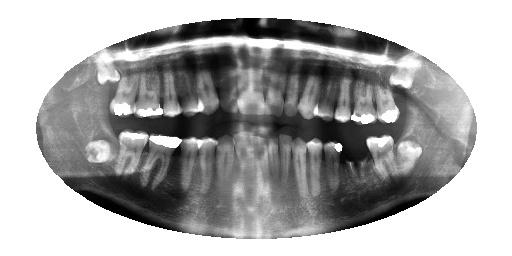Cavity: (342, 141, 370, 183)
Fillings: (141, 133, 182, 191)
